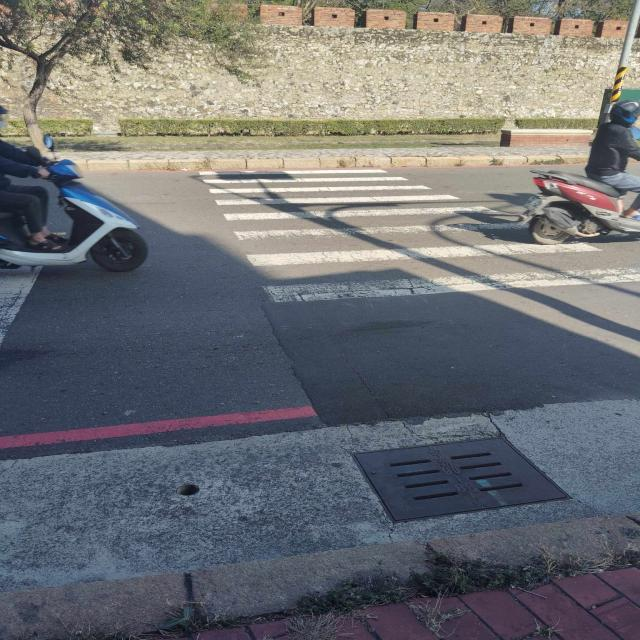person: (0, 140, 65, 252), (584, 100, 640, 220), (0, 106, 8, 128)
zebra crossing: (195, 162, 640, 309)
